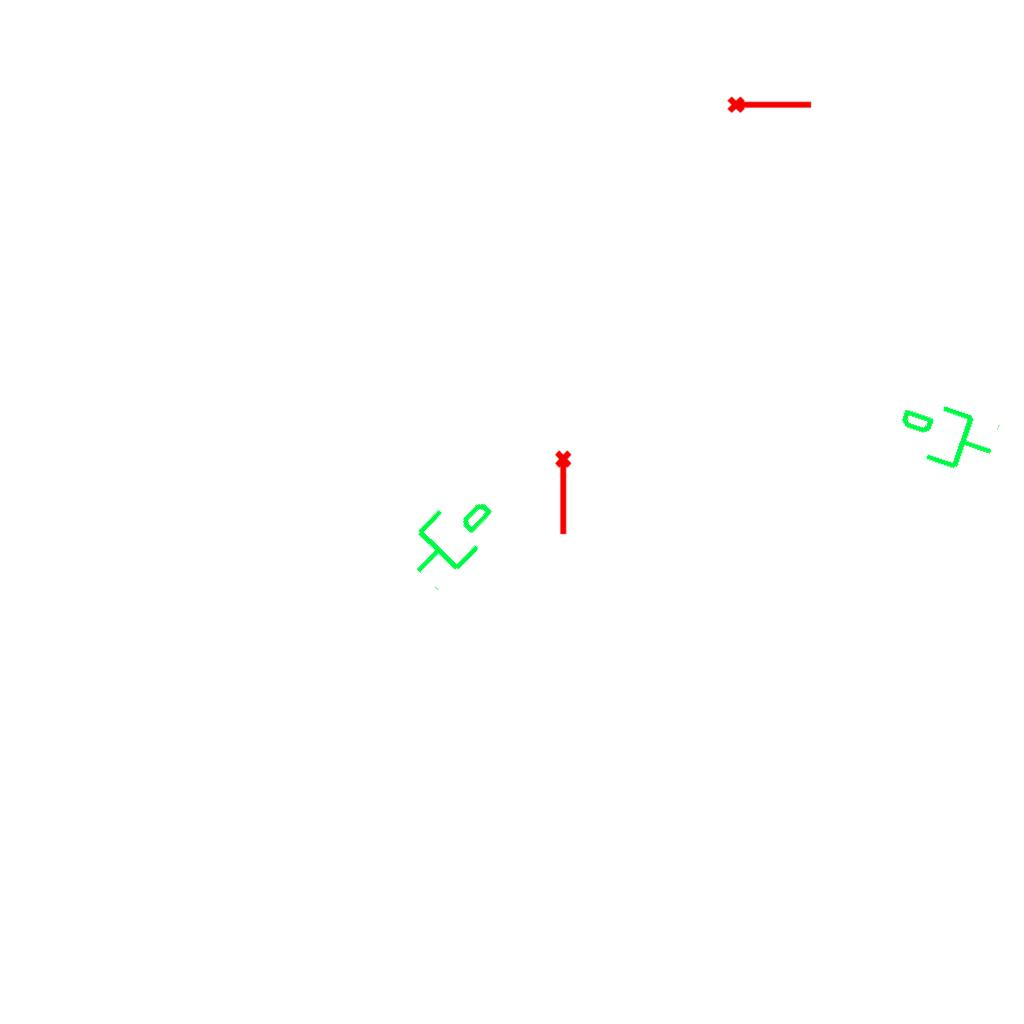ASR_Ansaugoeffnung: (726, 92, 814, 115), (553, 449, 576, 537)
Datenanschluss_einfach: (389, 476, 510, 596), (886, 389, 1005, 487)
